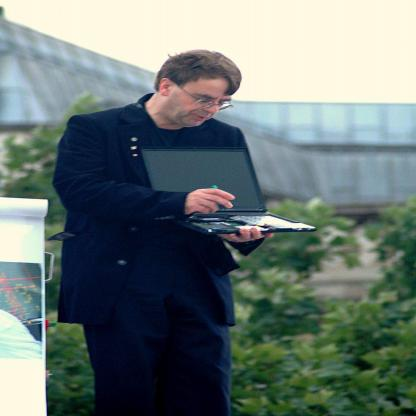board: (139, 149, 312, 232)
